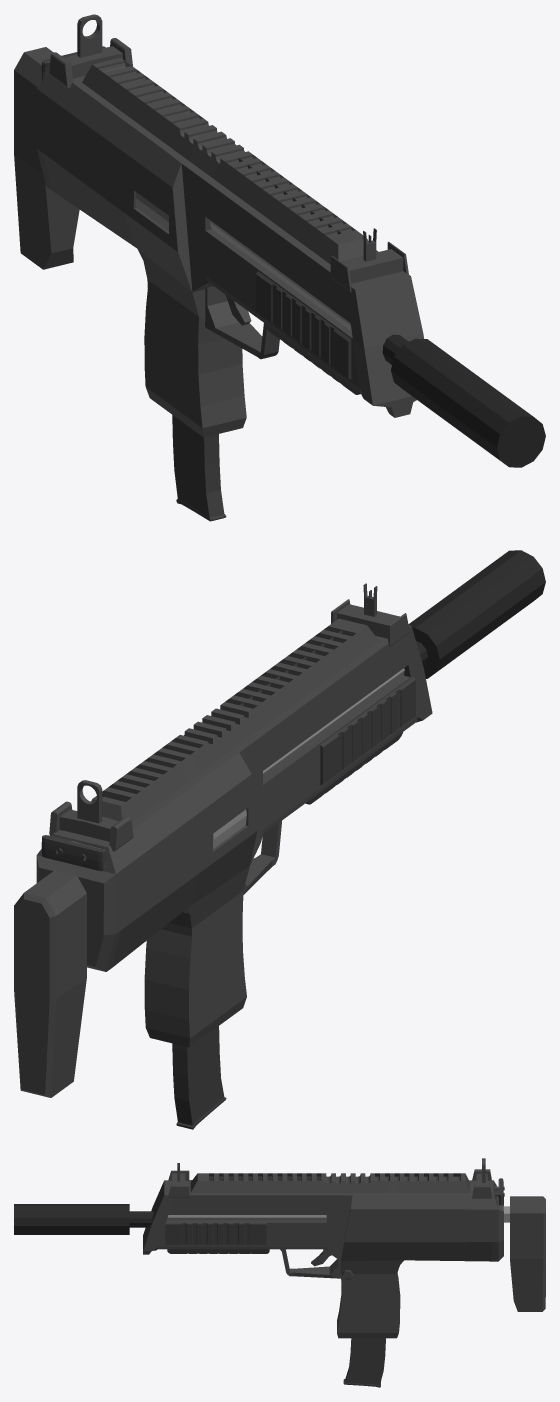
3 renders of one model, top to bottom at view 1: azimuth 30°, elevation 25°; view 2: azimuth 150°, elevation 25°; view 3: azimuth 270°, elevation 25°, orthographic. The views are drawn at different scales.
Visible parts, largest first — view 1: GunBody, TopRail, Cylinder.001, Stock, HandRail, Cube, IronSight2, TriggerOwl, IronSight; view 2: GunBody, Stock, TopRail, Cylinder.001, HandRail, Cube, IronSight2, IronSight, BoltHandle, TriggerOwl; view 3: GunBody, TopRail, Stock, Cylinder.001, HandRail, Cube, TriggerOwl, IronSight2, IronSight.
Part boxes in pixels (x1,y1,x2,y2): GunBody: (36, 73, 423, 437); TopRail: (82, 57, 368, 264); Cylinder.001: (382, 334, 545, 467); Stock: (14, 47, 79, 269); HandRail: (255, 271, 360, 394); Cube: (172, 415, 226, 521); IronSight2: (49, 14, 132, 87); TriggerOwl: (205, 286, 279, 359); IronSight: (330, 228, 408, 292); GunBody: (36, 625, 432, 1047); Stock: (14, 870, 86, 1097); TopRail: (91, 618, 379, 822); Cylinder.001: (408, 550, 545, 678); HandRail: (305, 677, 415, 804); Cube: (172, 1026, 226, 1129); IronSight2: (49, 780, 133, 851); IronSight: (331, 583, 409, 647); BoltHandle: (41, 835, 105, 871); TriggerOwl: (243, 820, 282, 894); GunBody: (143, 1180, 503, 1338); TopRail: (190, 1173, 469, 1193); Stock: (510, 1196, 545, 1311); Cylinder.001: (14, 1204, 153, 1234); HandRail: (165, 1222, 269, 1253); Cube: (343, 1338, 385, 1387); TriggerOwl: (280, 1249, 340, 1278); IronSight2: (472, 1158, 491, 1198); IronSight: (168, 1163, 189, 1197).
Size of the model in its own units: 35.63 by 179 by 381.
Materials: 15 (15 with a texture image).
